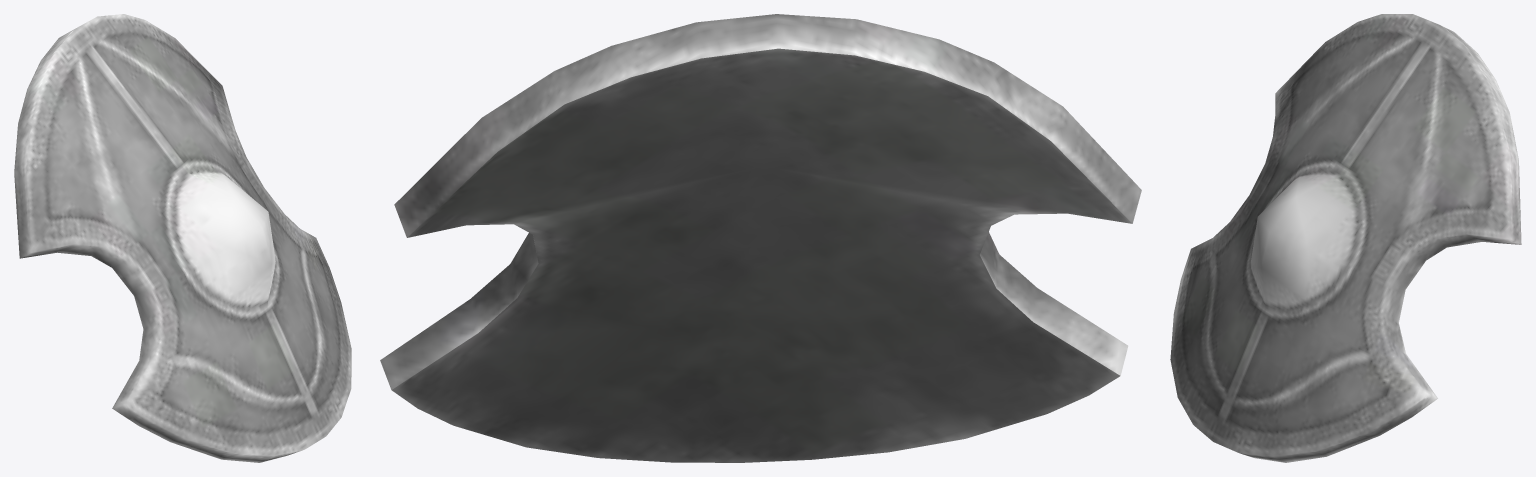
File: shield-ironshields.glb
3 views of the same model, side by side, from view 1: azimuth 30°, elevation 25°; view 2: azimuth 150°, elevation 25°; view 3: azimuth 270°, elevation 25° (orthographic). The views are drawn at different scales.
Bounding box in the file's own units: 0.3797 × 0.3657 × 0.3211.
1 material, 1 textured.
